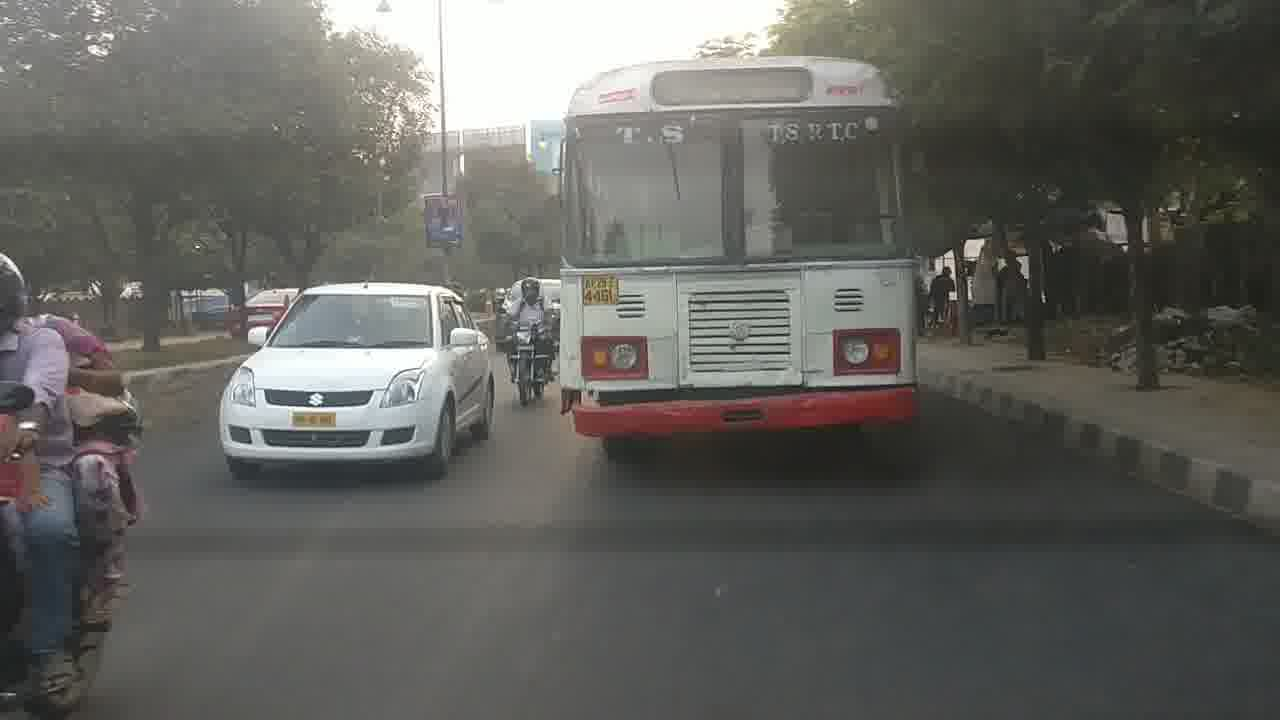swift desire: (220, 286, 491, 473)
